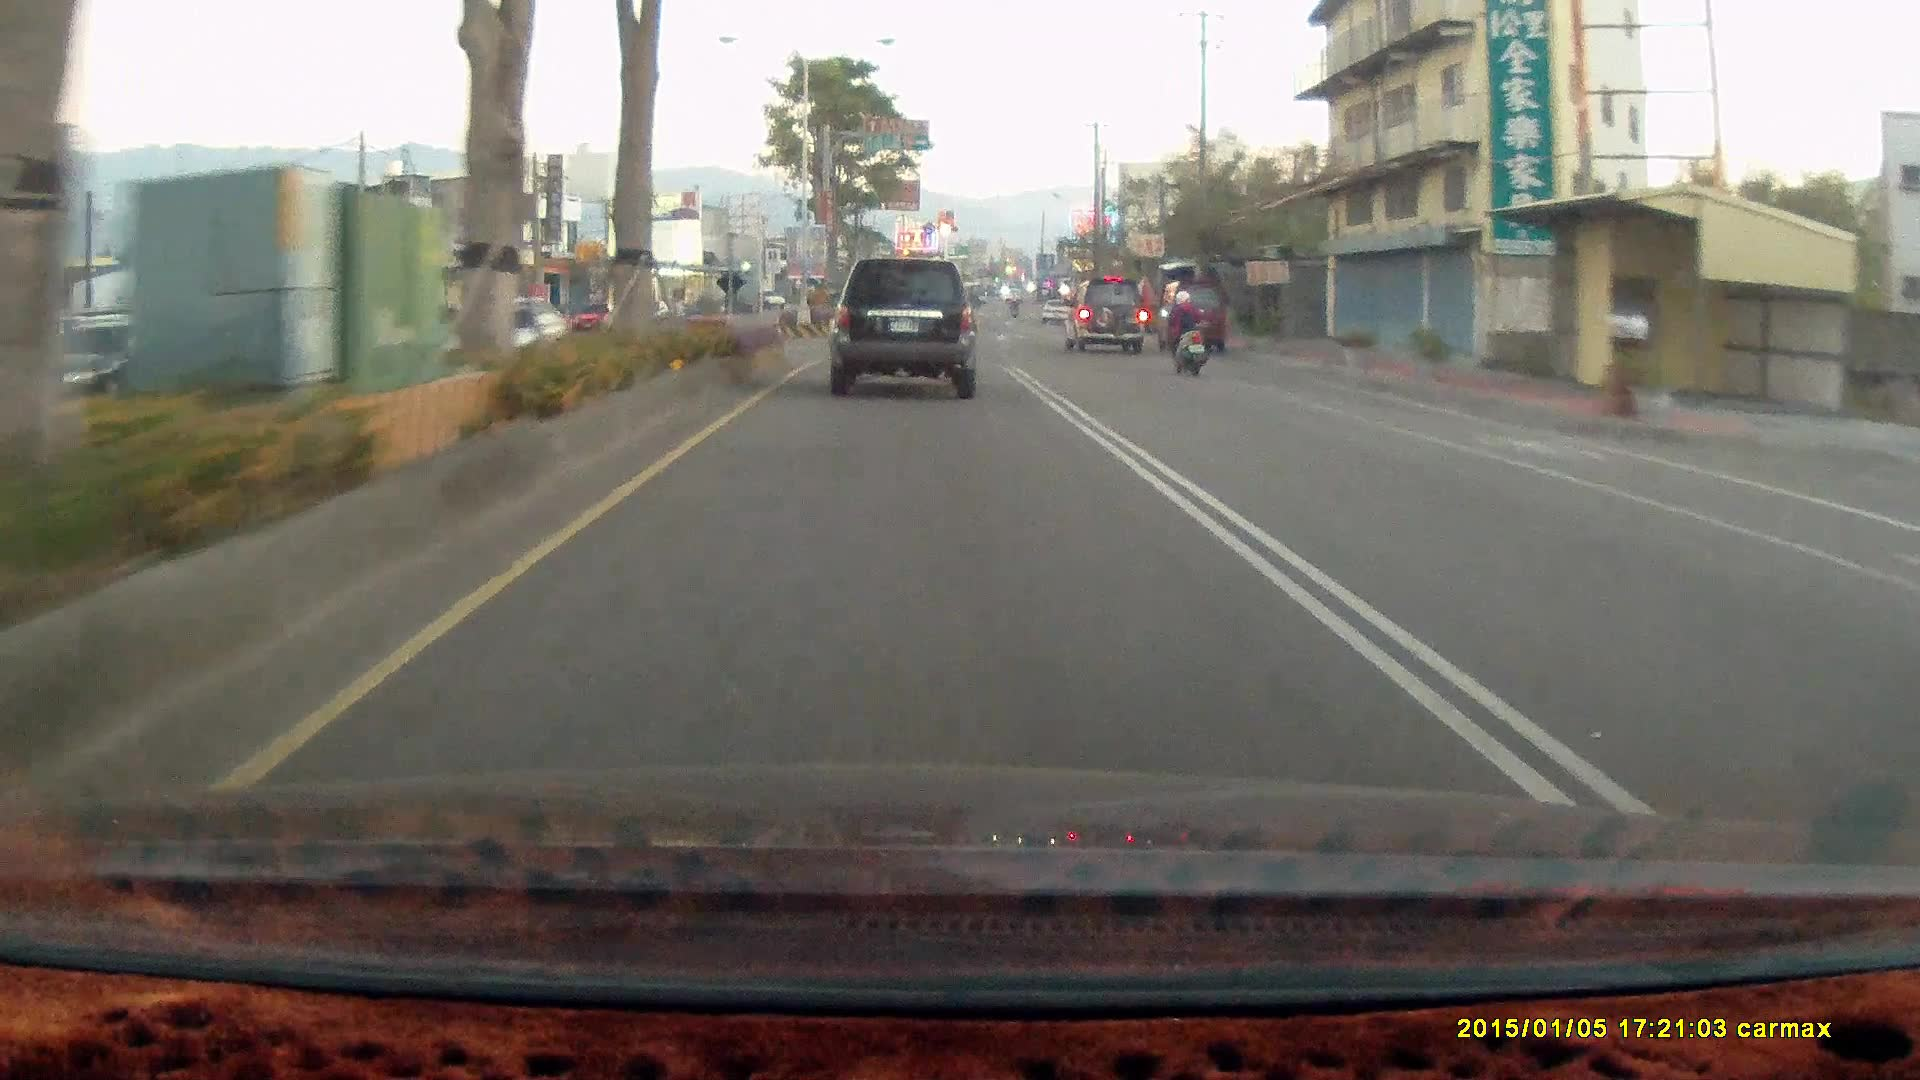rider: (1153, 280, 1218, 387), (1155, 289, 1205, 378)
vehicle: (831, 256, 987, 394), (827, 258, 980, 397), (1069, 278, 1157, 356), (1059, 277, 1146, 353), (1157, 280, 1232, 359), (1156, 278, 1228, 352)
